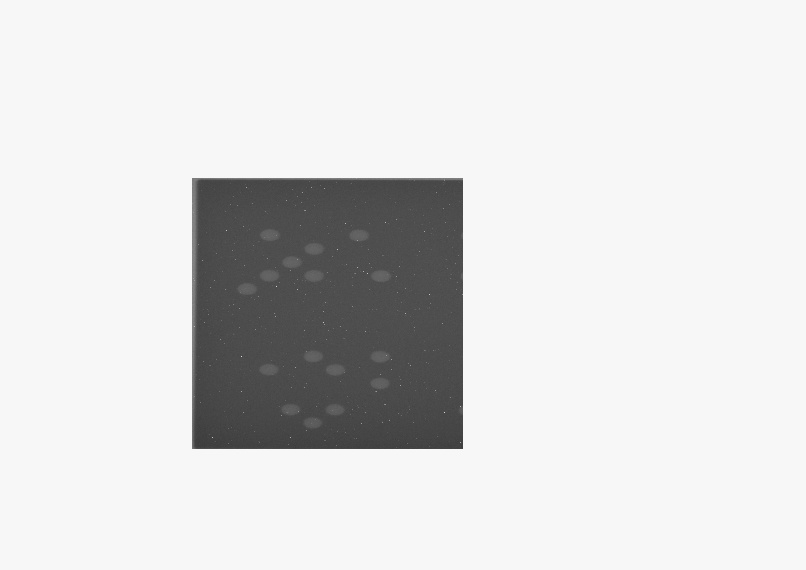cluster: (257, 348, 391, 429), (236, 227, 391, 295)
